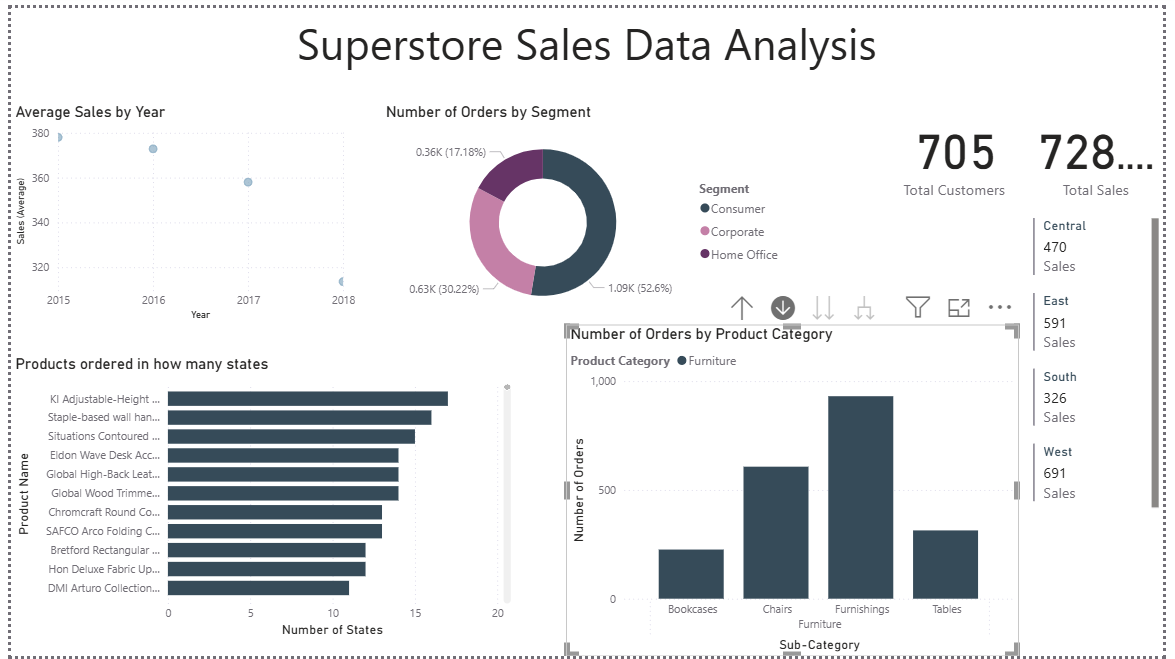

This screenshot's page, from the dashboard's own definition file:
{"tool":"powerbi","page":{"name":"Page 1","canvas":[1280,720],"ordinal":0},"visuals":[{"type":"scatterChart","title":"Average Sales by Year","fields":{"Y":["Avg(train.Sales)"],"X":["train.Order Year"]},"box":[0,105,386.7,246.7],"z":0},{"type":"card","fields":{"Values":["Count(train.Customer ID)"]},"box":[970,105,160,116.7],"z":1000},{"type":"clusteredBarChart","title":"Products ordered in how many states","fields":{"Category":["train.Product Name"],"Y":["CountNonNull(train.State)"]},"box":[0,385,560,318.3],"z":2000},{"type":"multiRowCard","fields":{"Values":["train.Region","CountNonNull(train.Sales (bins))"]},"box":[1130,228.3,150,343.3],"z":3000},{"type":"clusteredColumnChart","title":"Number of Orders by Product Category ","fields":{"Category":["train.Category","train.Sub-Category"],"Y":["CountNonNull(train.Order ID)"],"Series":["train.Category"]},"box":[616.7,351.7,503.3,368.3],"z":4000},{"type":"card","fields":{"Values":["Sum(train.Sales)"]},"box":[1130,105,150,116.7],"z":5000},{"type":"donutChart","fields":{"Series":["train.Segment"],"Y":["CountNonNull(train.Order ID)"]},"box":[411.7,105,455,246.7],"z":6000},{"type":"textbox","box":[0,0,1280,81.7],"z":7000}]}

Visuals, with their boxes in screenshot pixels (x1, y1, x2, y2), scaled from the page's 1280x720 canvas onto the 1175x659 screenshot:
"Average Sales by Year" scatterChart: 0 96 355 322
card - Count(train.Customer ID): 890 96 1037 203
"Products ordered in how many states" clusteredBarChart: 0 352 514 644
multiRowCard - train.Region x CountNonNull(train.Sales (bins)): 1037 209 1174 523
"Number of Orders by Product Category " clusteredColumnChart: 566 322 1028 658
card - Sum(train.Sales): 1037 96 1174 203
donutChart - train.Segment x CountNonNull(train.Order ID): 378 96 796 322
textbox: 0 0 1174 75
